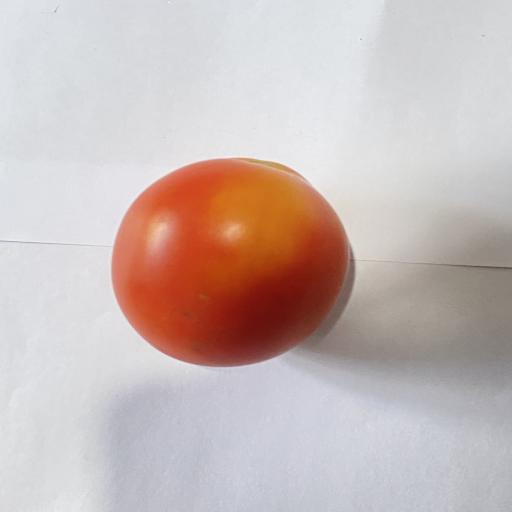ripe: (111, 158, 349, 366)
